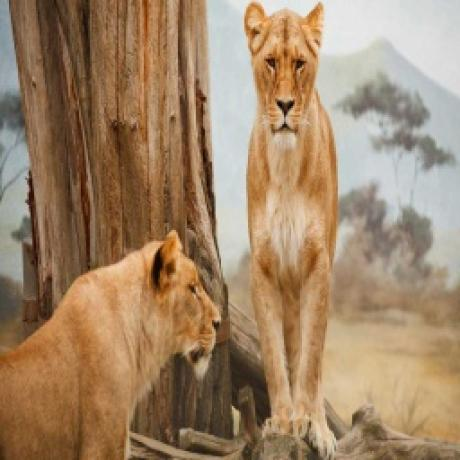Lion: (0, 230, 223, 460), (240, 2, 342, 441)
